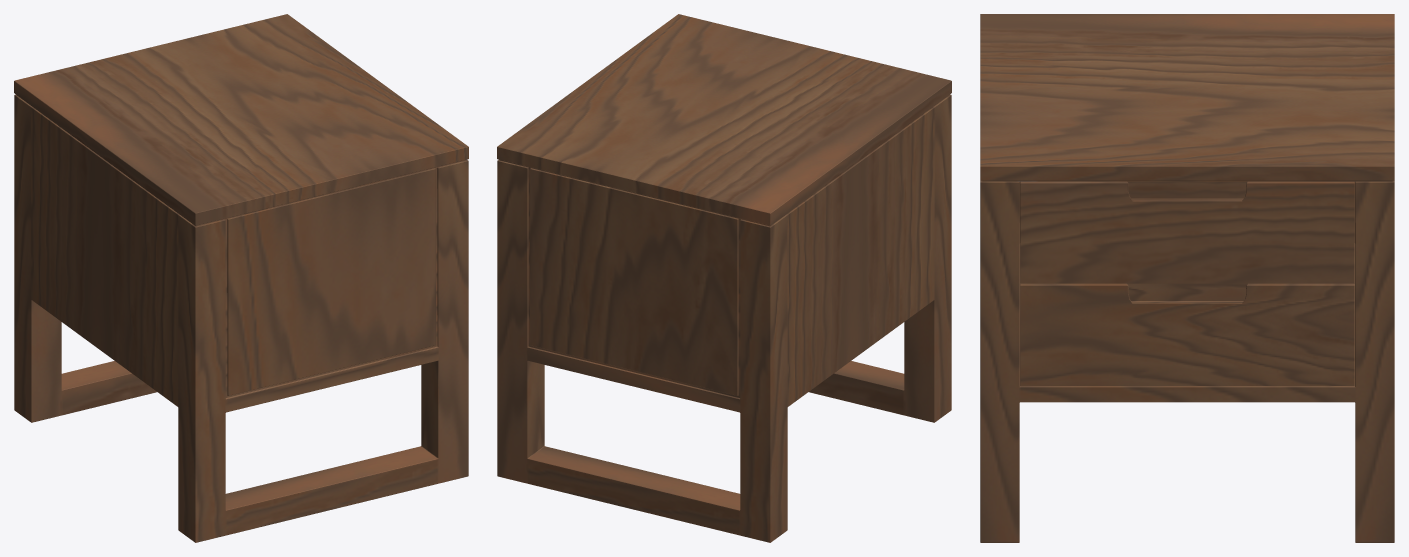
The model's file is bedsideTable2.glb.
3 views of the same model, side by side, from view 1: azimuth 30°, elevation 25°; view 2: azimuth 150°, elevation 25°; view 3: azimuth 270°, elevation 25° (orthographic). The views are drawn at different scales.
Visible parts, largest first — view 1: Cube.029; view 2: Cube.029; view 3: Cube.029.
Part boxes in pixels (x1,y1,x2,y2): Cube.029: (14,14,468,542); Cube.029: (497,14,951,542); Cube.029: (980,14,1394,542).
Size of the model in its own units: 0.3885 by 0.4476 by 0.4462.
1 material, 1 textured.
